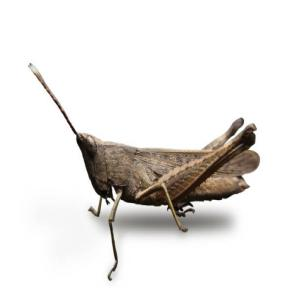locust: (38, 94, 274, 289)
